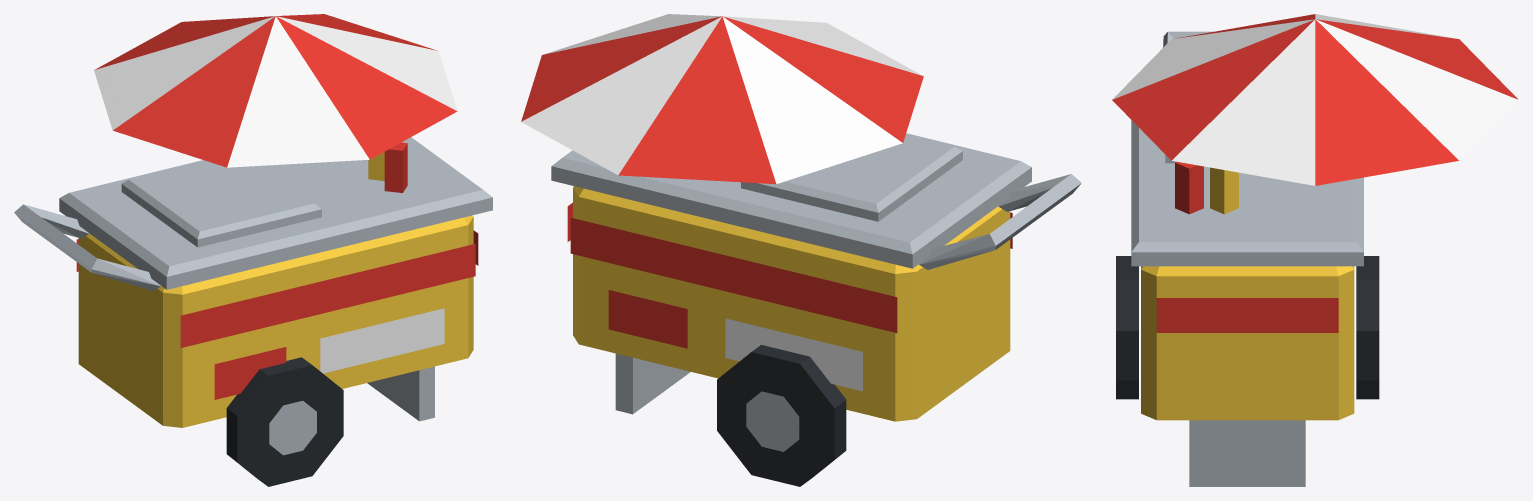
File: food_cart.glb
3 views of the same model, side by side, from view 1: azimuth 30°, elevation 25°; view 2: azimuth 150°, elevation 25°; view 3: azimuth 270°, elevation 25° (orthographic). The views are drawn at different scales.
Visible parts, largest first — view 1: food_cart; view 2: food_cart; view 3: food_cart.
Part boxes in pixels (box(x1,y1,x2,y2)): food_cart: box(14, 14, 492, 486); food_cart: box(521, 14, 1081, 486); food_cart: box(1112, 14, 1518, 486).
Bounding box in the file's own units: 0.2687 × 0.236 × 0.211.
